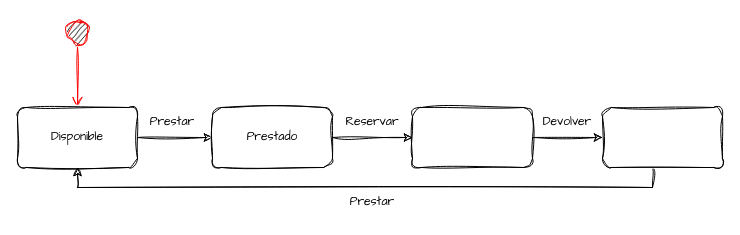
Image size: 740x235. Some labels were removed from this diagram. The shapes that lost their labels are listed below. From the top down, each one's box as (x1, y1, x2, y2) in pixels, then its label:
(412, 106, 532, 168): Recervado
(602, 106, 722, 168): Devuelto
